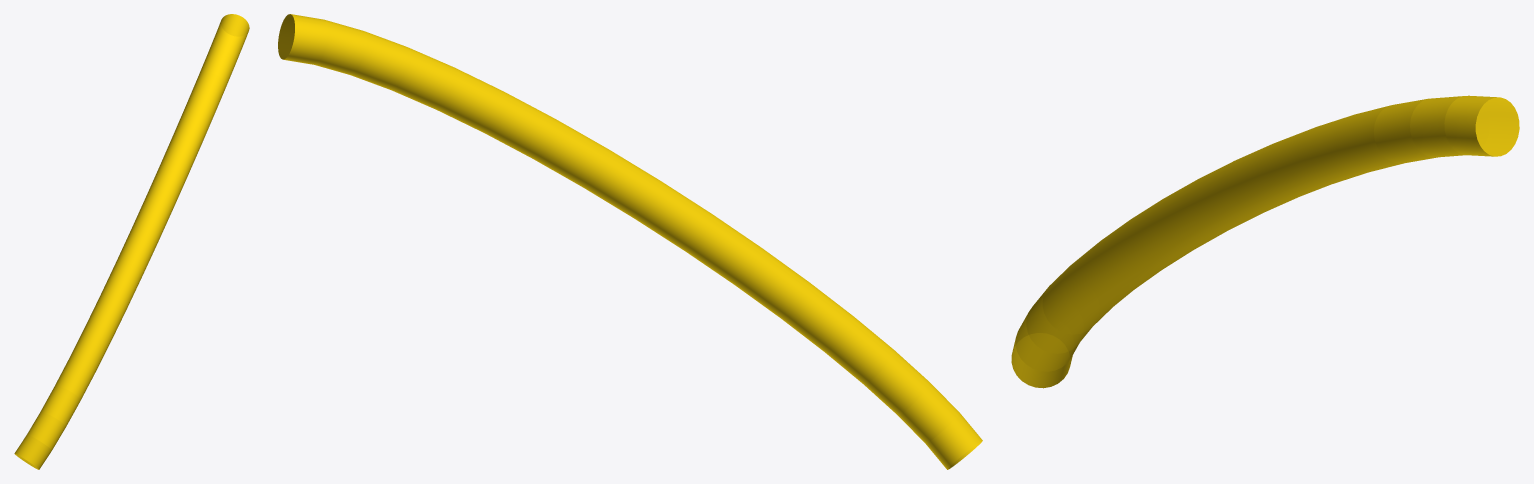
Rendered from Event_421364160_track_53.fbx.
3 views of the same model, side by side, from view 1: azimuth 30°, elevation 25°; view 2: azimuth 150°, elevation 25°; view 3: azimuth 270°, elevation 25° (orthographic). The views are drawn at different scales.
Parts seen in each view (by area): view 1: Model; view 2: Model; view 3: Model.
Part boxes in pixels (x1,y1,x2,y2): Model: (14,14,249,469); Model: (278,14,982,469); Model: (1011,95,1519,388).
Size of the model in its own units: 0.529 by 0.4389 by 0.341.
